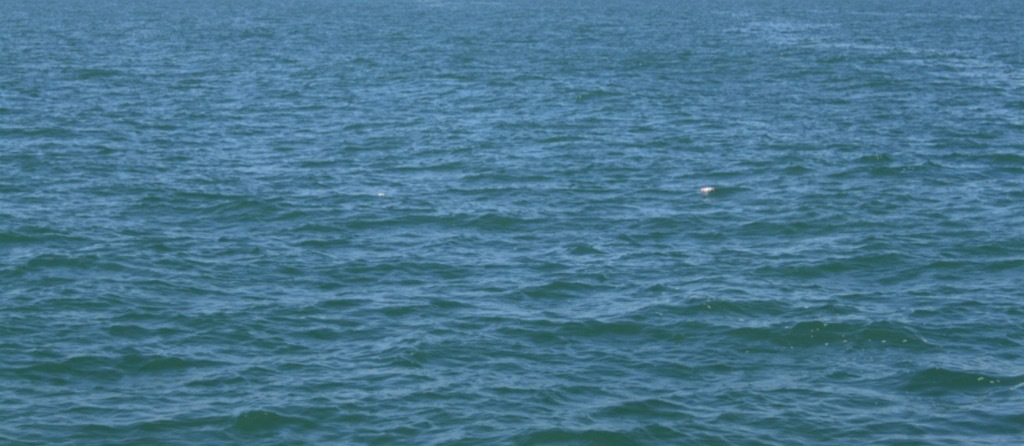plastic: (366, 180, 398, 207), (692, 179, 721, 202)
